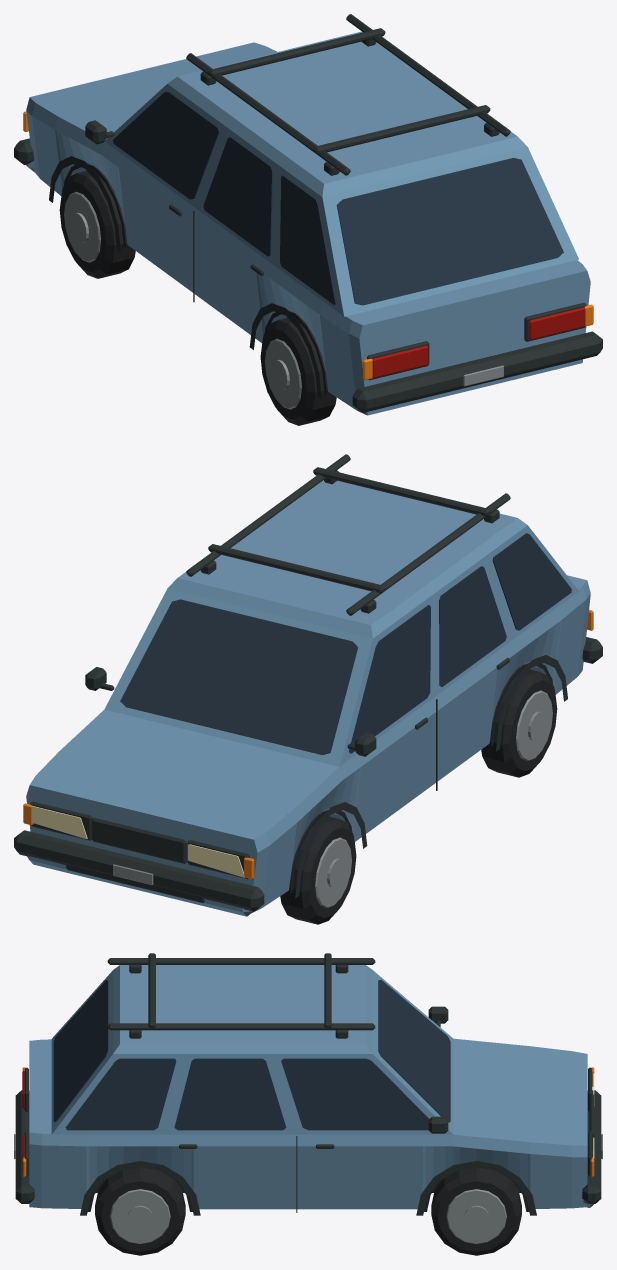
File: 14_Crossover.fbx
3 renders of one model, top to bottom at view 1: azimuth 30°, elevation 25°; view 2: azimuth 150°, elevation 25°; view 3: azimuth 270°, elevation 25°, orthographic. The views are drawn at different scales.
Visible parts, largest first — view 1: Continuous body with open wheel arches.014, Raked cabin with chamfered roof.013, Framed rear windshield.009, Side glass -1 pane 2.003, Moulded bumper.027, Side glass -1 pane 1.009, Side glass -1 pane 0.012, WheelRL_ShapedSidewall.013, WheelFL_ShapedSidewall.013, Roof crossbar.003, Roof crossbar.002, WheelRL_Rim.013 (+7 smaller); view 2: Continuous body with open wheel arches.014, Raked cabin with chamfered roof.013, Framed opaque windshield.013, Side glass -1 pane 2.003, Moulded bumper.026, Side glass -1 pane 1.009, Side glass -1 pane 0.012, WheelRL_ShapedSidewall.013, WheelFL_ShapedSidewall.013, Inset radiator grille.013, Roof crossbar.002, Roof crossbar.003 (+11 smaller); view 3: Continuous body with open wheel arches.014, Raked cabin with chamfered roof.013, Side glass 1 pane 2.003, Side glass 1 pane 1.009, Framed opaque windshield.013, Side glass 1 pane 0.012, Framed rear windshield.009, WheelFR_ShapedSidewall.013, WheelRR_ShapedSidewall.013, WheelFR_Rim.013, WheelRR_Rim.013, Roof rail.003 (+9 smaller).
Part boxes in pixels (x1=…): Continuous body with open wheel arches.014: x1=26, y1=42, x2=590, y2=415; Raked cabin with chamfered roof.013: x1=104, y1=31, x2=578, y2=316; Framed rear windshield.009: x1=336, y1=157, x2=563, y2=305; Side glass -1 pane 2.003: x1=113, y1=92, x2=219, y2=199; Moulded bumper.027: x1=352, y1=331, x2=602, y2=412; Side glass -1 pane 1.009: x1=203, y1=137, x2=272, y2=256; Side glass -1 pane 0.012: x1=280, y1=175, x2=335, y2=304; WheelRL_ShapedSidewall.013: x1=260, y1=315, x2=336, y2=425; WheelFL_ShapedSidewall.013: x1=59, y1=168, x2=135, y2=278; Roof crossbar.003: x1=208, y1=28, x2=385, y2=77; Roof crossbar.002: x1=313, y1=105, x2=490, y2=154; WheelRL_Rim.013: x1=265, y1=338, x2=301, y2=409; Continuous body with open wheel arches.014: x1=26, y1=575, x2=590, y2=913; Raked cabin with chamfered roof.013: x1=104, y1=480, x2=578, y2=766; Framed opaque windshield.013: x1=120, y1=599, x2=357, y2=754; Side glass -1 pane 2.003: x1=348, y1=605, x2=430, y2=753; Moulded bumper.026: x1=14, y1=830, x2=264, y2=911; Side glass -1 pane 1.009: x1=439, y1=566, x2=506, y2=686; Side glass -1 pane 0.012: x1=492, y1=533, x2=571, y2=630; WheelRL_ShapedSidewall.013: x1=481, y1=667, x2=557, y2=777; WheelFL_ShapedSidewall.013: x1=280, y1=814, x2=356, y2=924; Inset radiator grille.013: x1=92, y1=817, x2=186, y2=863; Roof crossbar.002: x1=313, y1=467, x2=490, y2=516; Roof crossbar.003: x1=208, y1=544, x2=385, y2=593; Continuous body with open wheel arches.014: x1=29, y1=1038, x2=587, y2=1209; Raked cabin with chamfered roof.013: x1=51, y1=965, x2=453, y2=1134; Side glass 1 pane 2.003: x1=281, y1=1058, x2=428, y2=1130; Side glass 1 pane 1.009: x1=174, y1=1058, x2=286, y2=1130; Framed opaque windshield.013: x1=378, y1=979, x2=450, y2=1122; Side glass 1 pane 0.012: x1=65, y1=1058, x2=176, y2=1130; Framed rear windshield.009: x1=53, y1=980, x2=108, y2=1122; WheelFR_ShapedSidewall.013: x1=431, y1=1167, x2=521, y2=1255; WheelRR_ShapedSidewall.013: x1=95, y1=1167, x2=185, y2=1255; WheelFR_Rim.013: x1=446, y1=1189, x2=506, y2=1244; WheelRR_Rim.013: x1=110, y1=1189, x2=170, y2=1244; Roof rail.003: x1=107, y1=1023, x2=375, y2=1030.
Bounding box in the file's own units: 217 × 191 × 468.
